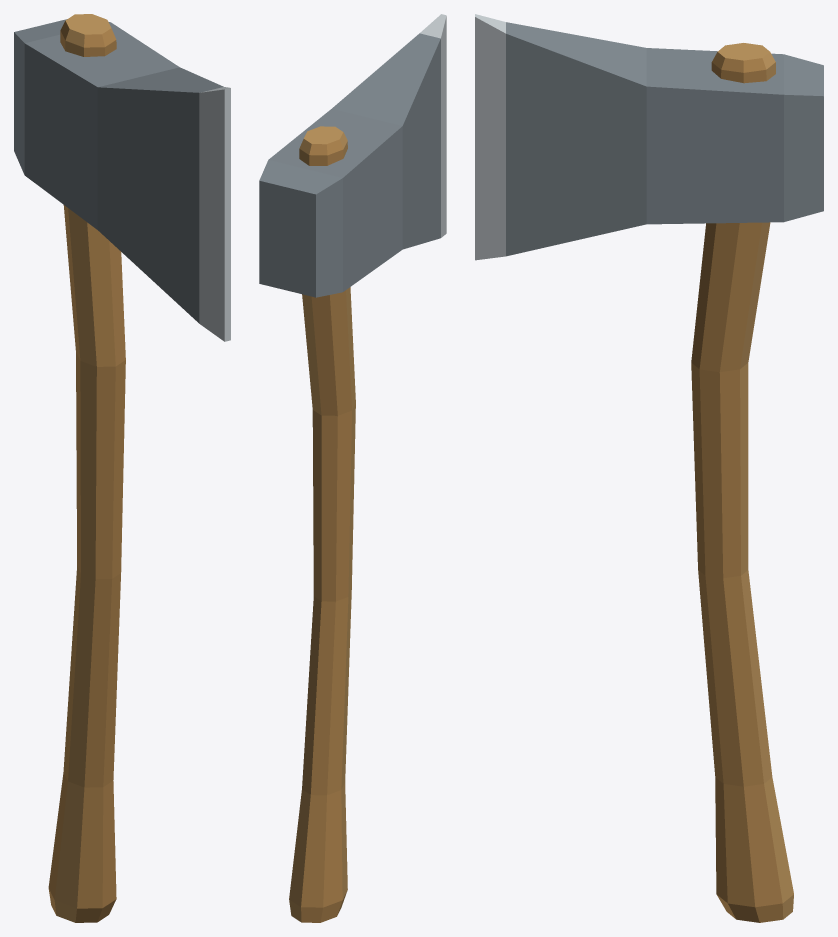
Rendered from wood_cutting_axe.glb.
The picture shows the model from 3 angles, left to right: view 1: azimuth 30°, elevation 25°; view 2: azimuth 150°, elevation 25°; view 3: azimuth 270°, elevation 25°; orthographic projection. The views are drawn at different scales.
Parts seen in each view (by area): view 1: WoodCuttingAxe; view 2: WoodCuttingAxe; view 3: WoodCuttingAxe.
Boxes of the visible parts, <box> form: WoodCuttingAxe: <box>14,14,230,922</box>; WoodCuttingAxe: <box>259,14,446,922</box>; WoodCuttingAxe: <box>475,14,823,922</box>.
Bounding box in the file's own units: 0.084 × 0.865 × 0.305.
